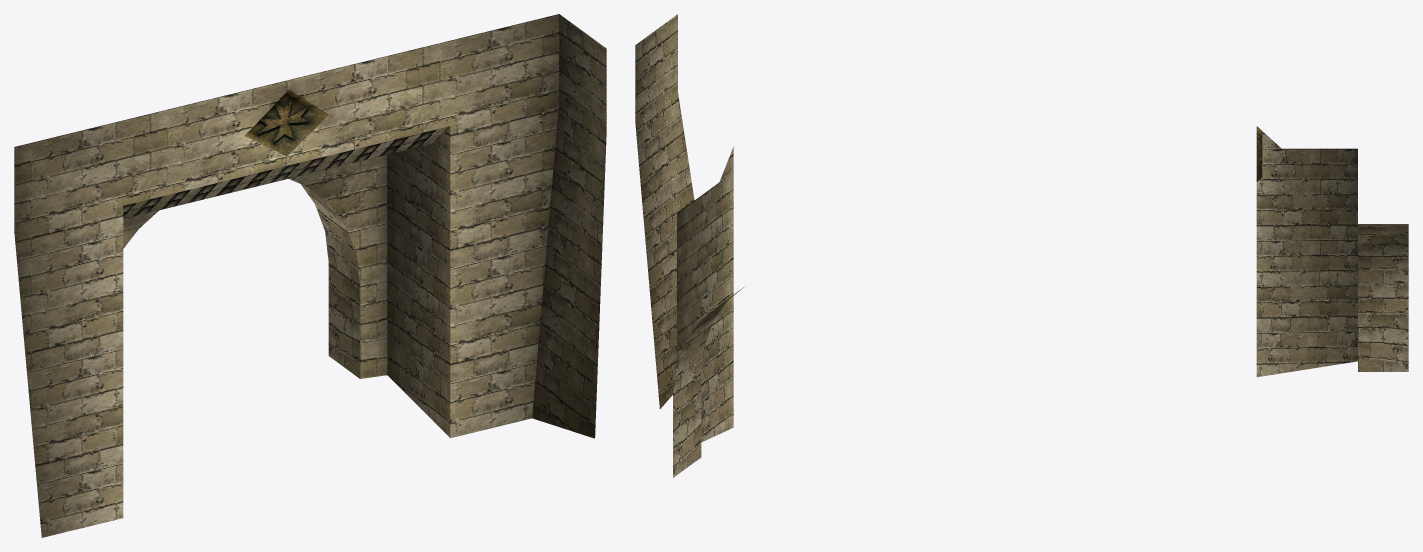
The model's file is Mission12_ExteriorWalls01_A.glb.
3 views of the same model, side by side, from view 1: azimuth 30°, elevation 25°; view 2: azimuth 150°, elevation 25°; view 3: azimuth 270°, elevation 25° (orthographic). The views are drawn at different scales.
Visible parts, largest first — view 1: MISSION12_EXTERIORWALLS01_A; view 2: MISSION12_EXTERIORWALLS01_A; view 3: MISSION12_EXTERIORWALLS01_A.
Part boxes in pixels (bbox=[...]): MISSION12_EXTERIORWALLS01_A: bbox=[14, 14, 606, 537]; MISSION12_EXTERIORWALLS01_A: bbox=[635, 14, 745, 477]; MISSION12_EXTERIORWALLS01_A: bbox=[1256, 126, 1408, 377].
Bounding box in the file's own units: 20 × 13.95 × 10.
3 materials, 3 textured.
